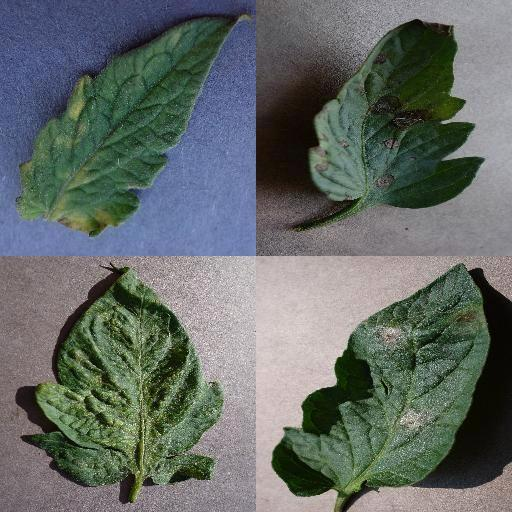Early Blight: (309, 19, 486, 211)
Late Blight: (272, 263, 492, 497)
Leaf Mold: (18, 12, 242, 238)
Spider Mites: (22, 266, 223, 490)
